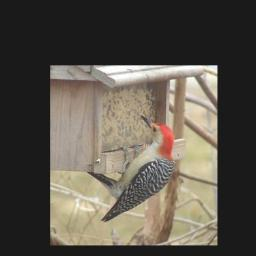Woodpecker: (92, 114, 178, 219)
